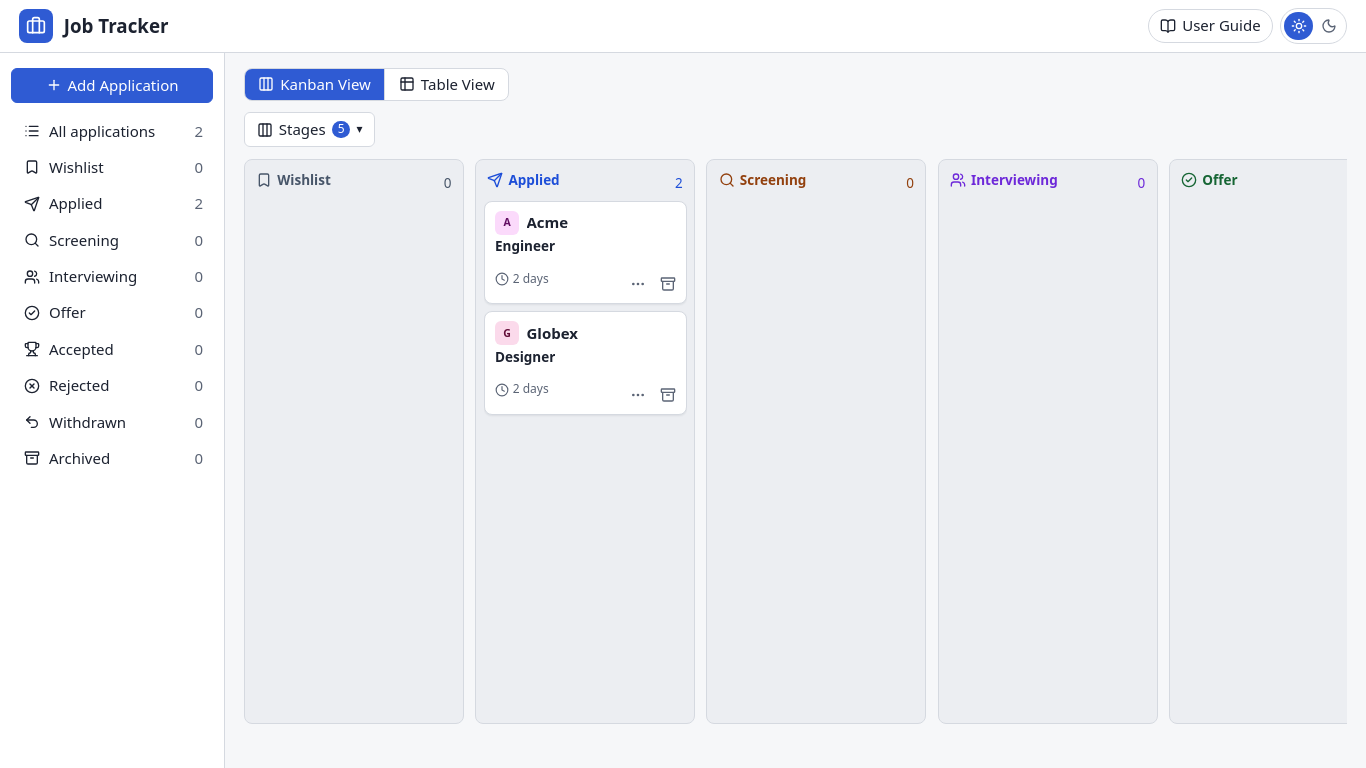
Test: archiving from the board (spec 017, AC-2, AC-3) › takes the card off the board at once, stays on the board, and saves it
The width and height of the screenshot is (1366, 768).
Click the button named "Archive: Engineer at Acme" at point(668, 284), box [653,270,683,300]
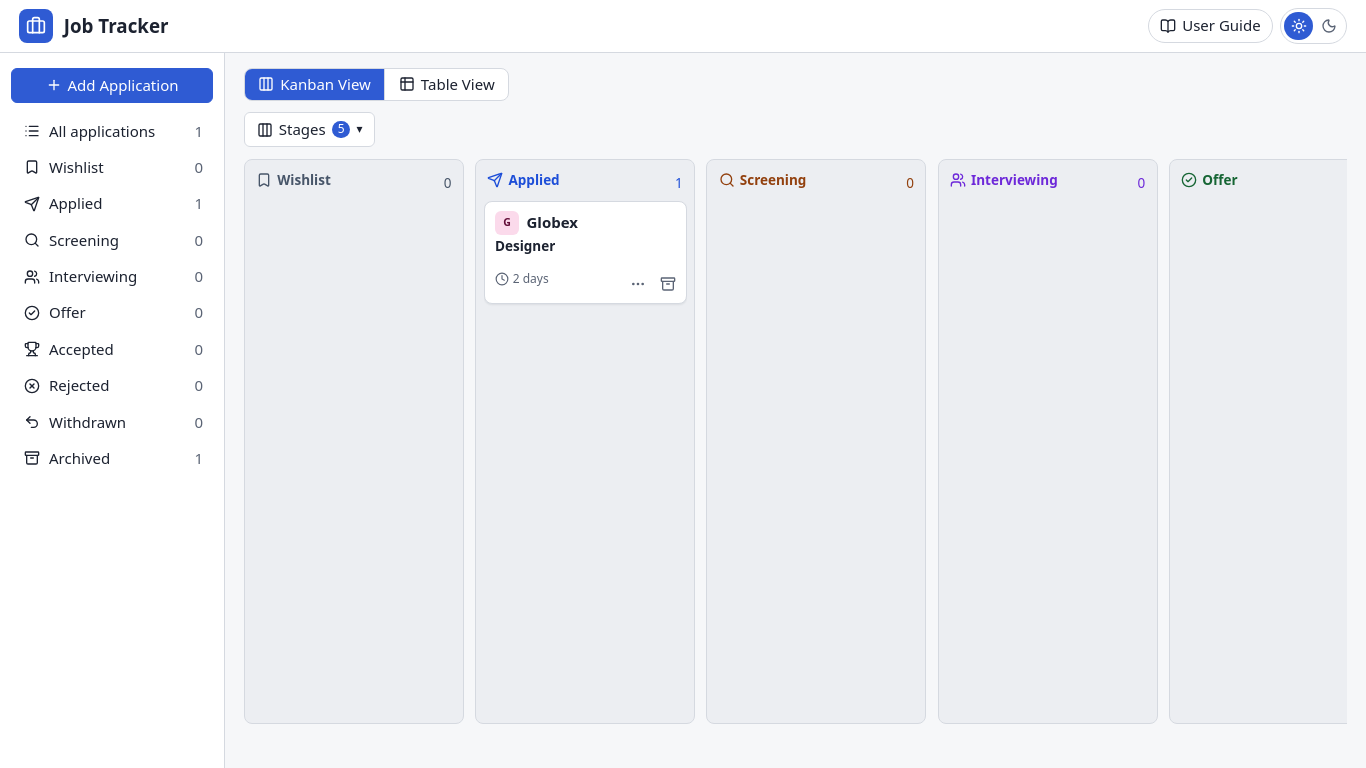
Expected: the button "G Globex Designer 2 days" is shown, [484,201,686,304]
Result: the button "Acme" is gone
Result: the text "1" below "Table View" is shown at [675,174,683,192]
